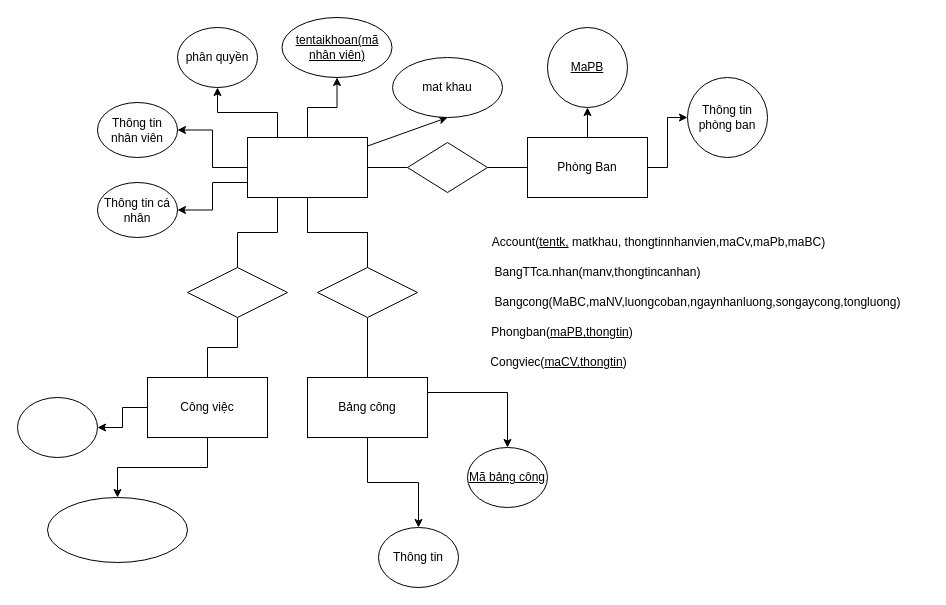
Image size: 946x605. Some labels were removed from this diagram. The shapes that lost their labels are listed below. From the top down, each one's centre as x and y in pixels, then its label:
At (307,167): "Account".
At (447,167): "thuộc".
At (237,292): "có".
At (367,292): "chấm công".
At (57,427): "mã công việc".
At (117,529): "Thông tin công việc".
